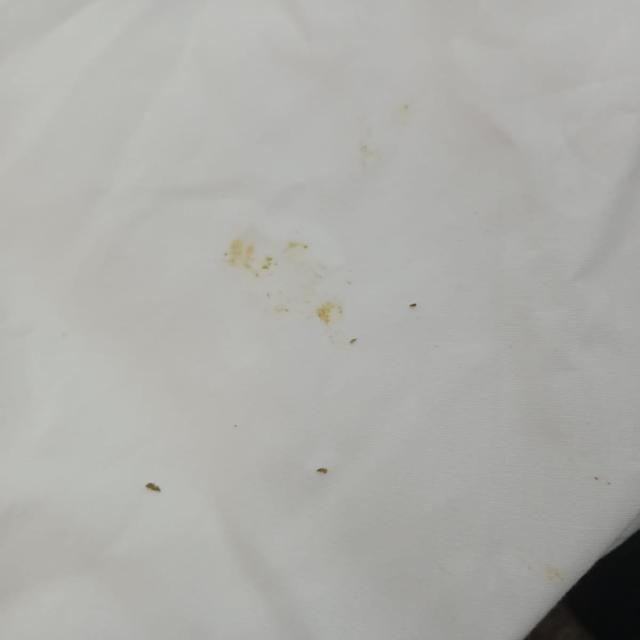stain: (209, 219, 427, 356), (338, 92, 417, 166), (304, 455, 343, 489), (134, 478, 172, 498)
